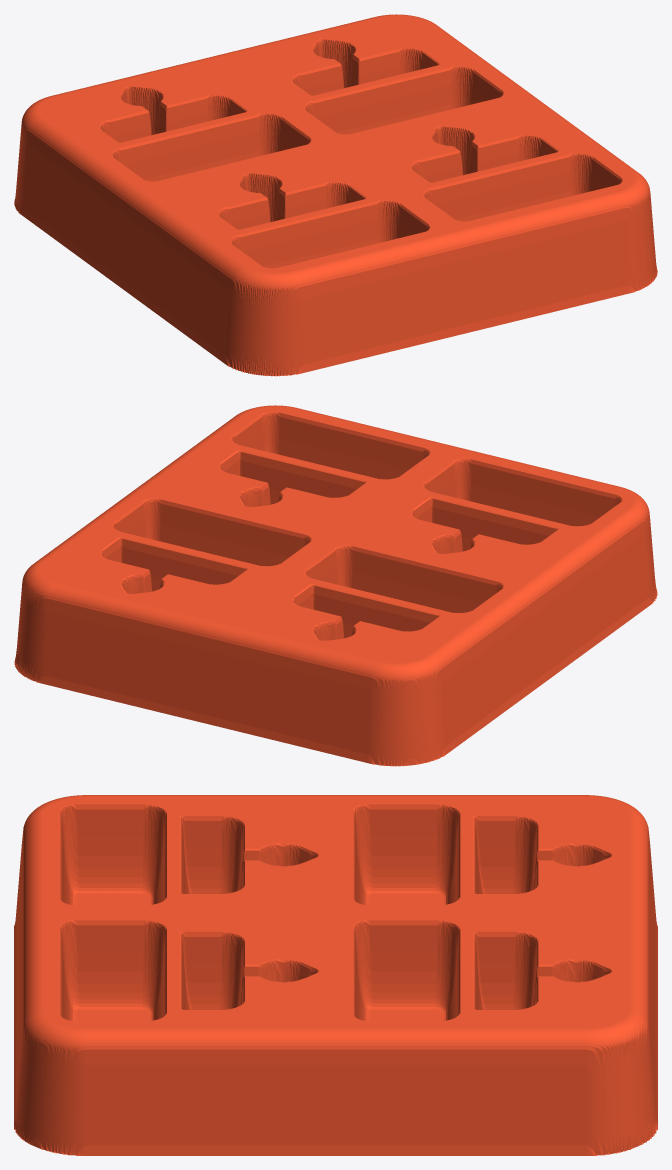
The model's file is mold.glb.
3 renders of one model, top to bottom at view 1: azimuth 30°, elevation 25°; view 2: azimuth 150°, elevation 25°; view 3: azimuth 270°, elevation 25°, orthographic. The views are drawn at different scales.
Parts seen in each view (by area): view 1: geometry_0; view 2: geometry_0; view 3: geometry_0.
Boxes of the visible parts, x1,y1,x2,y2 form: geometry_0: (14, 14, 657, 376); geometry_0: (14, 405, 657, 766); geometry_0: (14, 795, 657, 1155).
Bounding box in the file's own units: 0.076 × 0.0159 × 0.0808.
